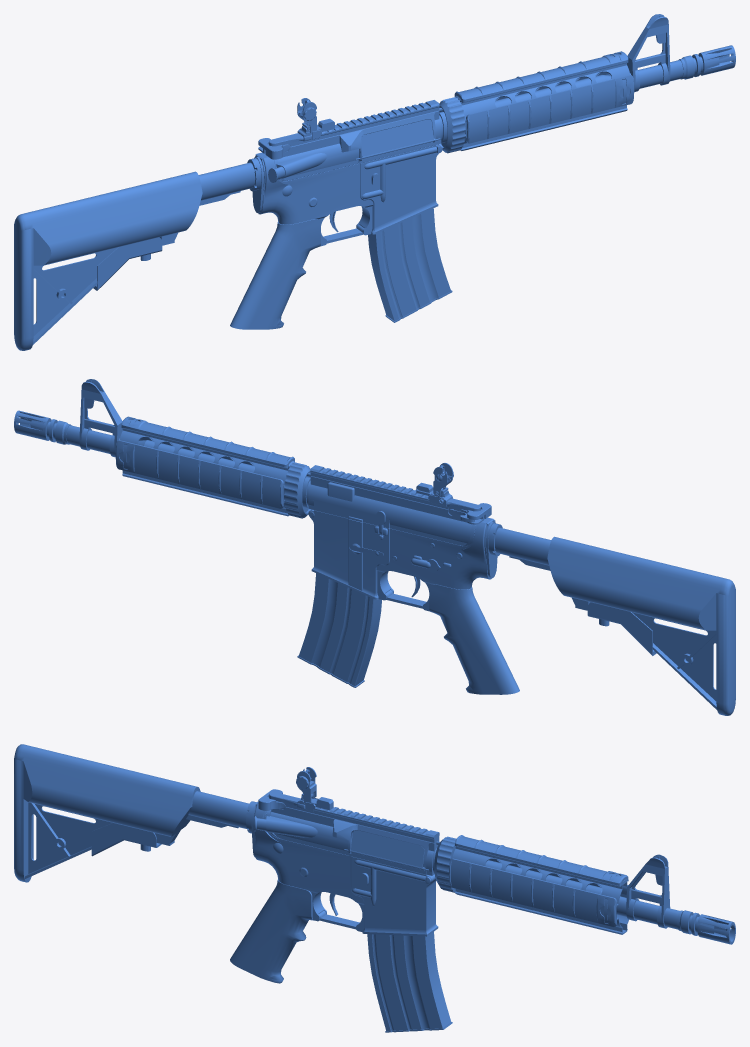
The picture shows the model from 3 angles, top to bottom: view 1: azimuth 30°, elevation 25°; view 2: azimuth 150°, elevation 25°; view 3: azimuth 330°, elevation 25°; orthographic projection.
Visible parts, largest first — view 1: weapon; view 2: weapon; view 3: weapon.
Part boxes in pixels (x1,y1,x2,y2): weapon: (14, 14, 735, 350); weapon: (14, 379, 735, 715); weapon: (14, 744, 735, 1032).
Size of the model in its own units: 3.53 by 1.13 by 0.1799.
